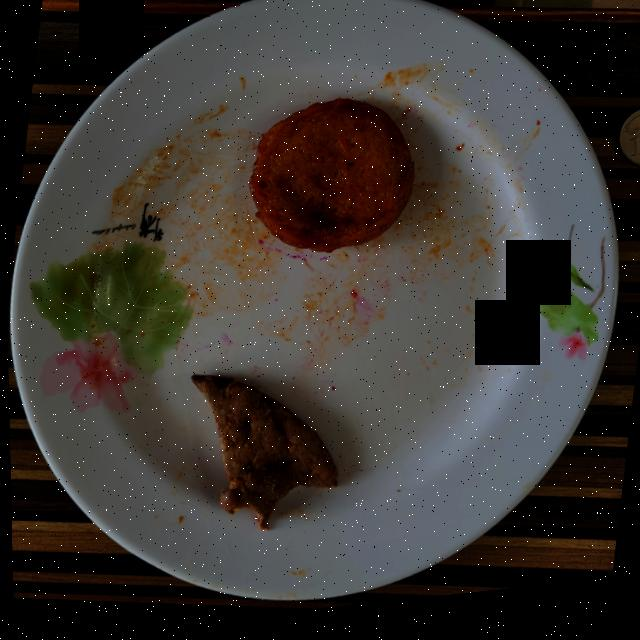coin: (617, 123, 640, 179)
fish cake: (248, 106, 412, 259)
pig liver: (189, 379, 334, 535)
